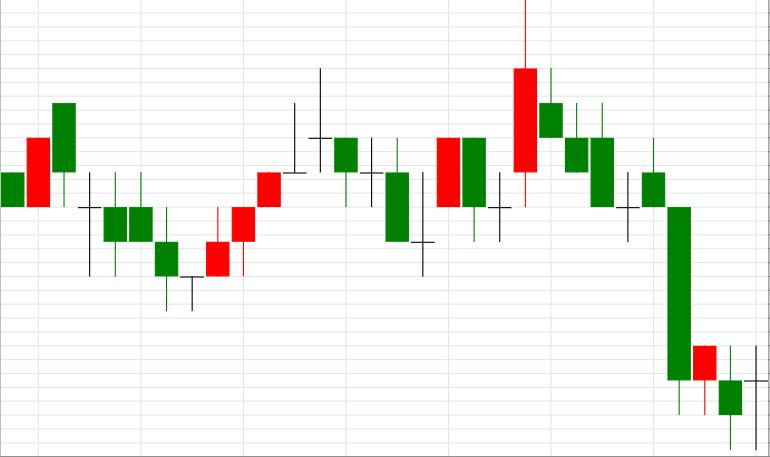hammer_rise: (540, 67, 716, 415)
morning_star_rise: (53, 103, 229, 311), (309, 68, 459, 277)
